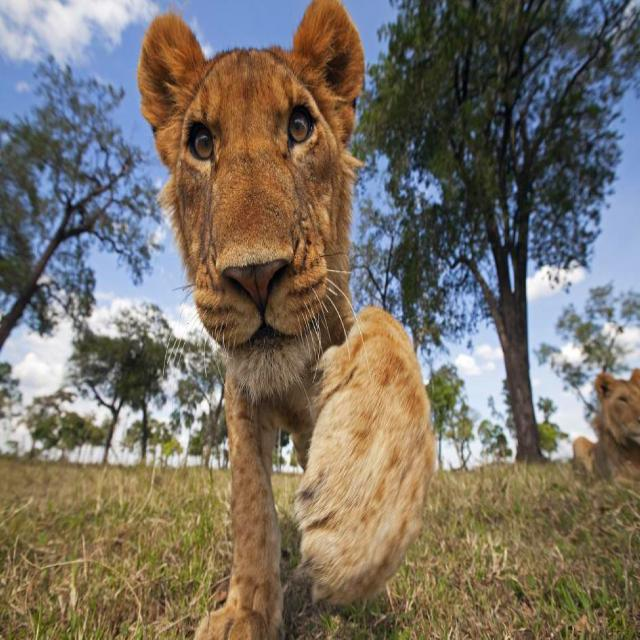lion: (139, 0, 435, 639)
